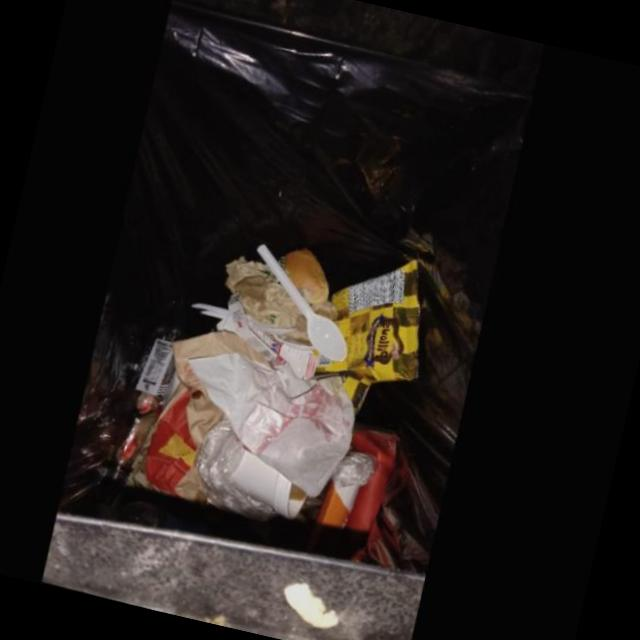bao_bi_thuc_pham: (315, 264, 424, 411)
carton: (193, 294, 322, 382), (346, 434, 401, 537), (317, 481, 363, 532)
giay: (192, 356, 358, 501), (141, 332, 274, 506)
thuc_an_thua: (286, 253, 335, 315)
tui_ni_long: (195, 423, 276, 520), (334, 457, 377, 492)
vo_hop_sua: (137, 340, 179, 400)
xop: (233, 452, 310, 523)
